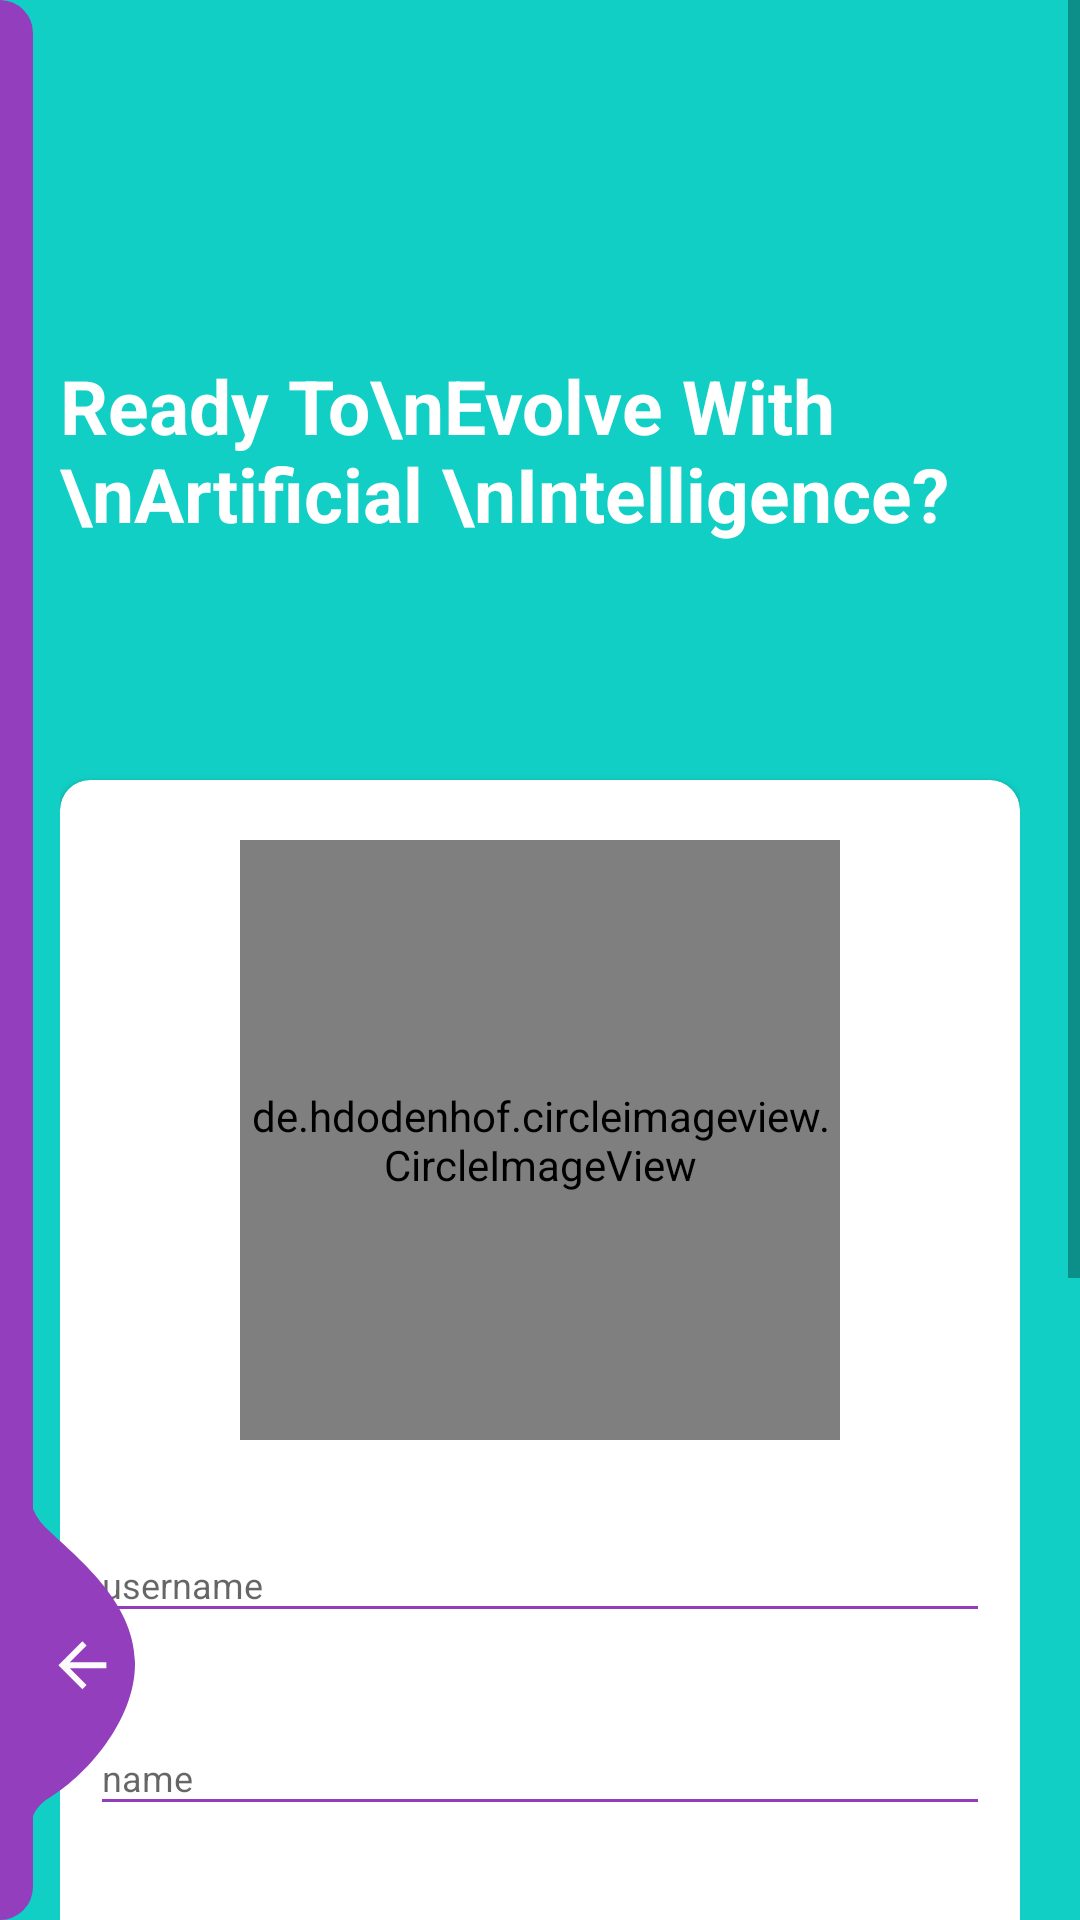

Named icons in this screenshot (1080*1920) and their centers, point (x, y):
back: point (82, 1665)
